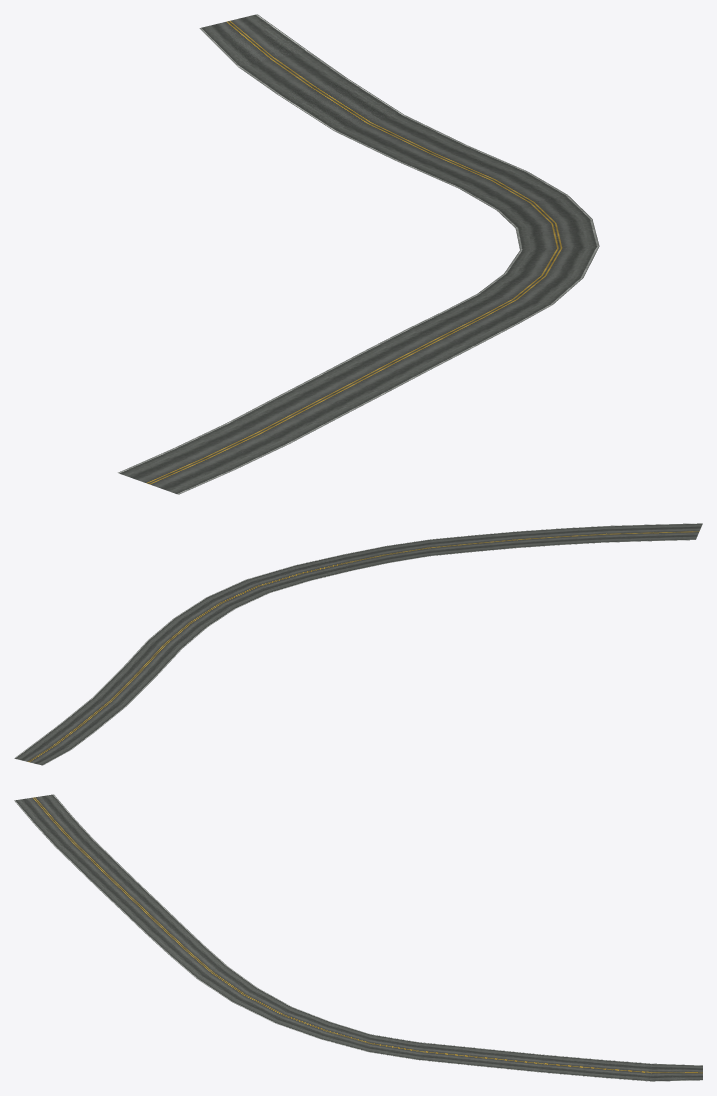
The model's file is cuntwland02c.obj.
The picture shows the model from 3 angles, top to bottom: view 1: azimuth 30°, elevation 25°; view 2: azimuth 150°, elevation 25°; view 3: azimuth 270°, elevation 25°; orthographic projection. The views are drawn at different scales.
Parts seen in each view (by area): view 1: cuntwland02c; view 2: cuntwland02c; view 3: cuntwland02c.
Part boxes in pixels (x1,y1,x2,y2): cuntwland02c: [118, 14, 599, 494]; cuntwland02c: [14, 523, 702, 765]; cuntwland02c: [14, 794, 702, 1081].
Bounding box in the file's own units: 130 × 28.73 × 195.
1 material, 1 textured.
